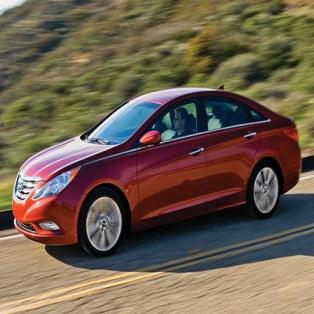Auto: (11, 88, 303, 260)
